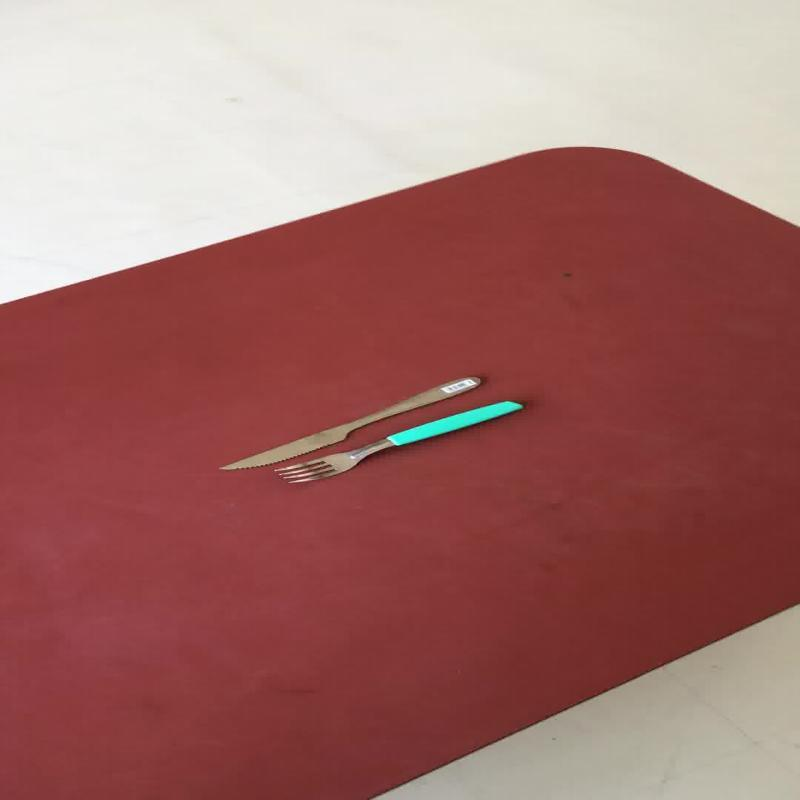fork: (271, 399, 523, 484)
knife: (216, 374, 482, 470), (271, 399, 523, 484)
